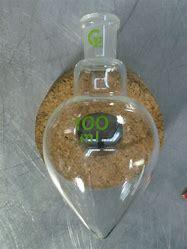Pear shaped flask: (32, 2, 162, 237)
